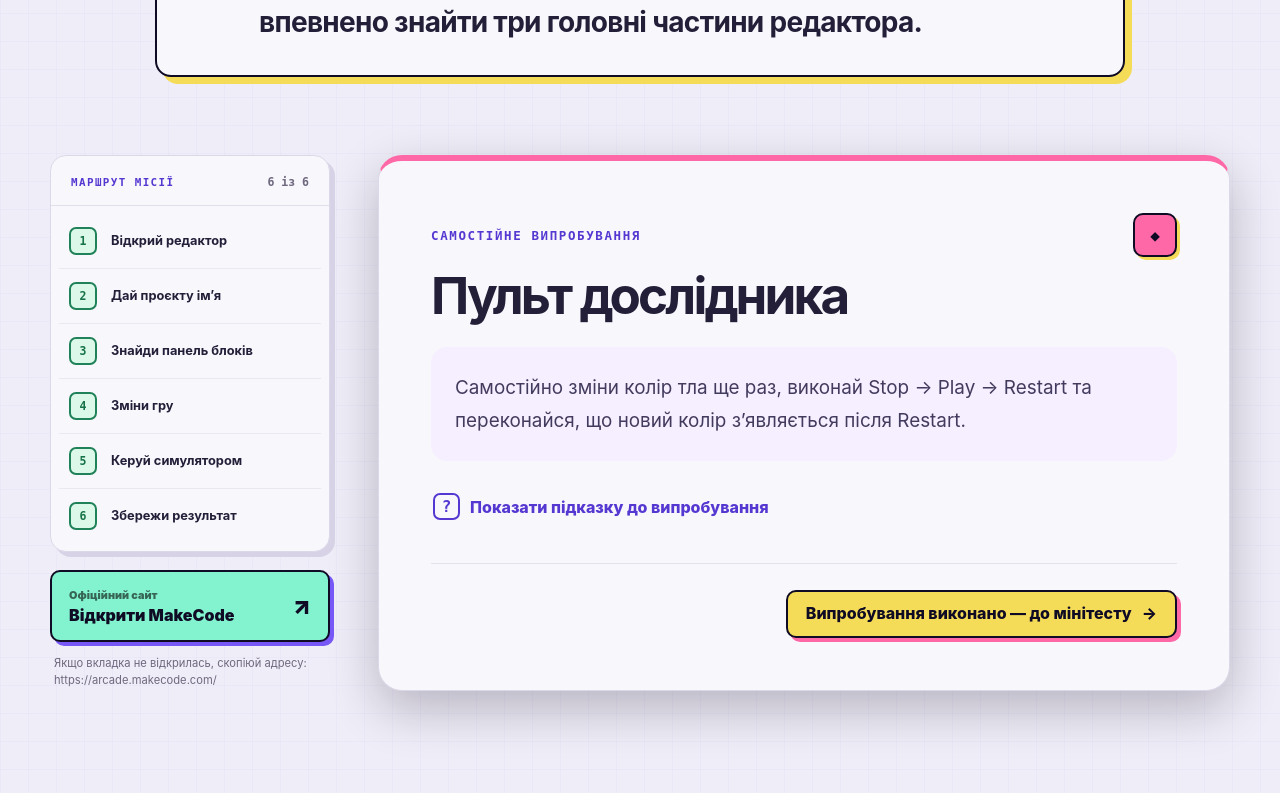
Test case: LessonScreen › keeps the challenge hint hidden and then opens the quiz
The width and height of the screenshot is (1280, 793).
(page scrolled)
Click the button "? Показати підказку до випробування".
click(601, 507)  # box [431,485,771,529]
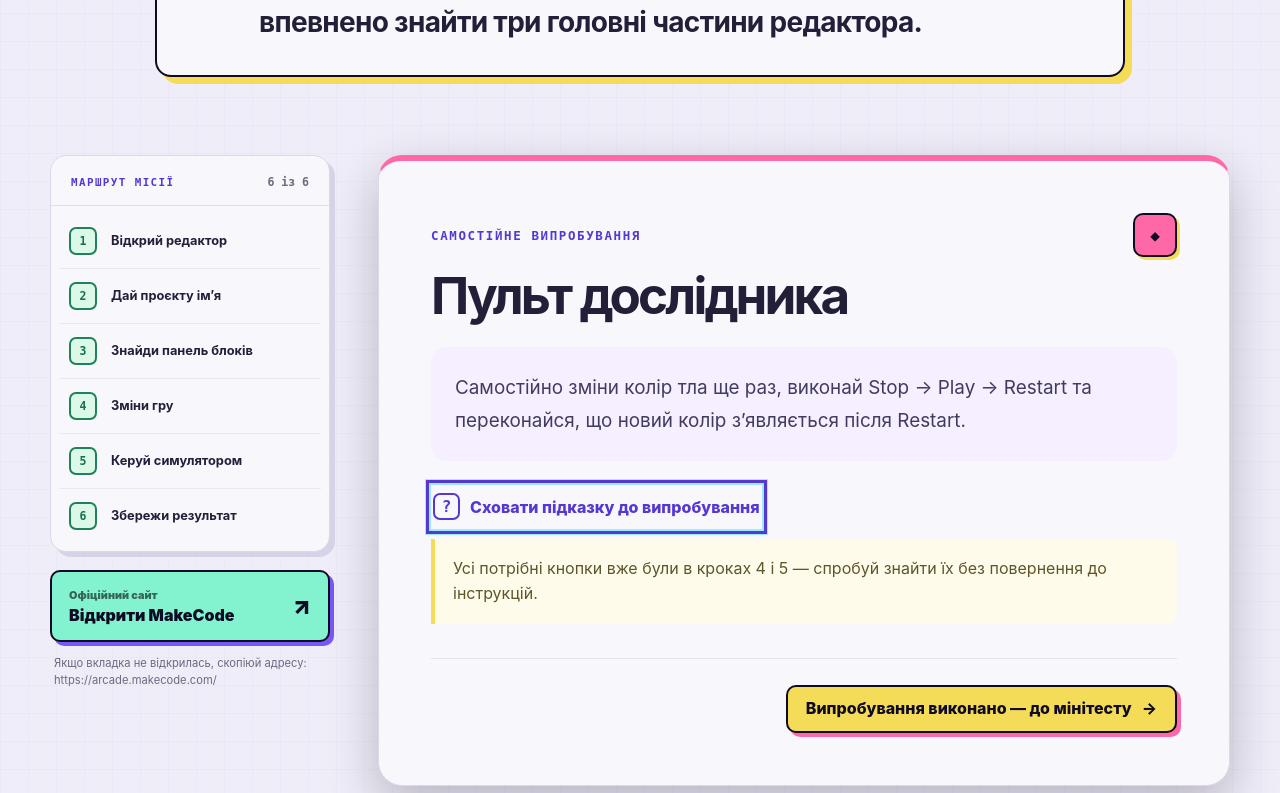
Expected: the text "Усі потрібні кнопки вже були в кроках 4 і 5 — спробуй знайти їх без повернення до інструкцій." is shown, [453,558,1107,603]
Click the button "Випробування виконано — до мінітесту →".
click(981, 709)  # box [786,685,1177,733]
(page scrolled)
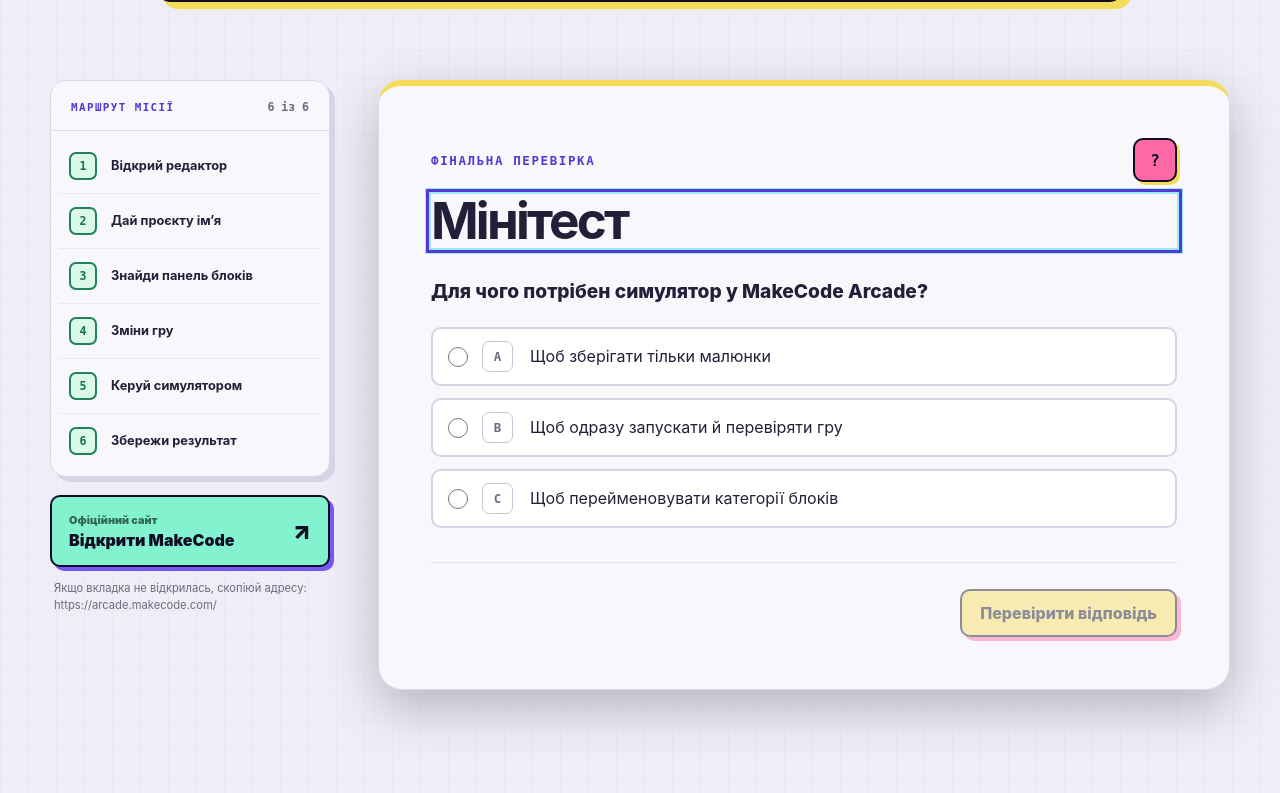
Expected: the text "Для чого потрібен симулятор у MakeCode Arcade?" is shown, [431,277,928,306]
